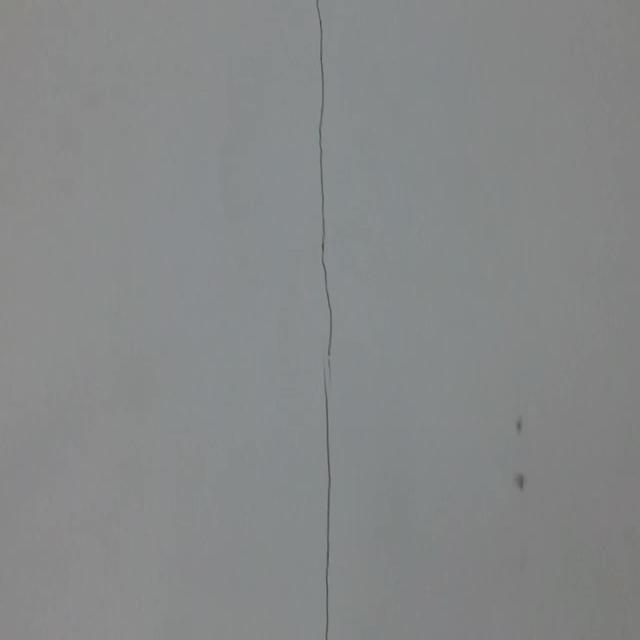Crack: (297, 0, 354, 640)
